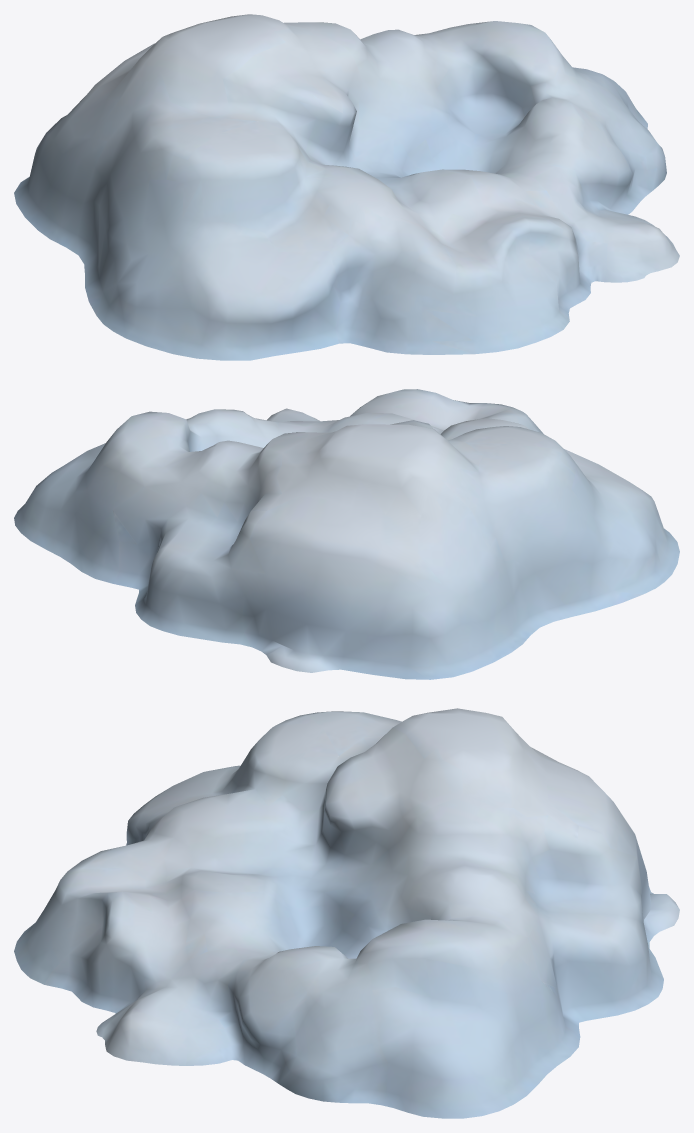
Rendered from event_drift.glb.
The picture shows the model from 3 angles, top to bottom: view 1: azimuth 30°, elevation 25°; view 2: azimuth 150°, elevation 25°; view 3: azimuth 270°, elevation 25°; orthographic projection. The views are drawn at different scales.
Visible parts, largest first — view 1: event_drift; view 2: event_drift; view 3: event_drift.
Boxes of the visible parts, x1,y1,x2,y2 form: event_drift: (14,14,679,360); event_drift: (14,389,679,679); event_drift: (14,708,679,1118).
Size of the model in its own units: 3.62 by 1 by 3.27.
Materials: 1 (1 with a texture image).
